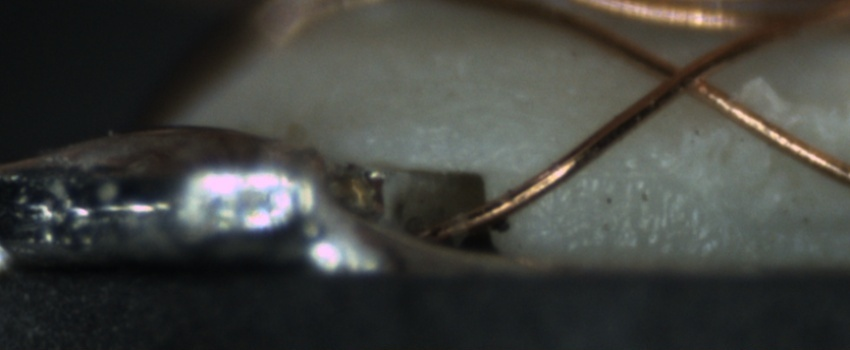CL: (643, 48, 726, 106)
DL: (511, 159, 651, 196)
